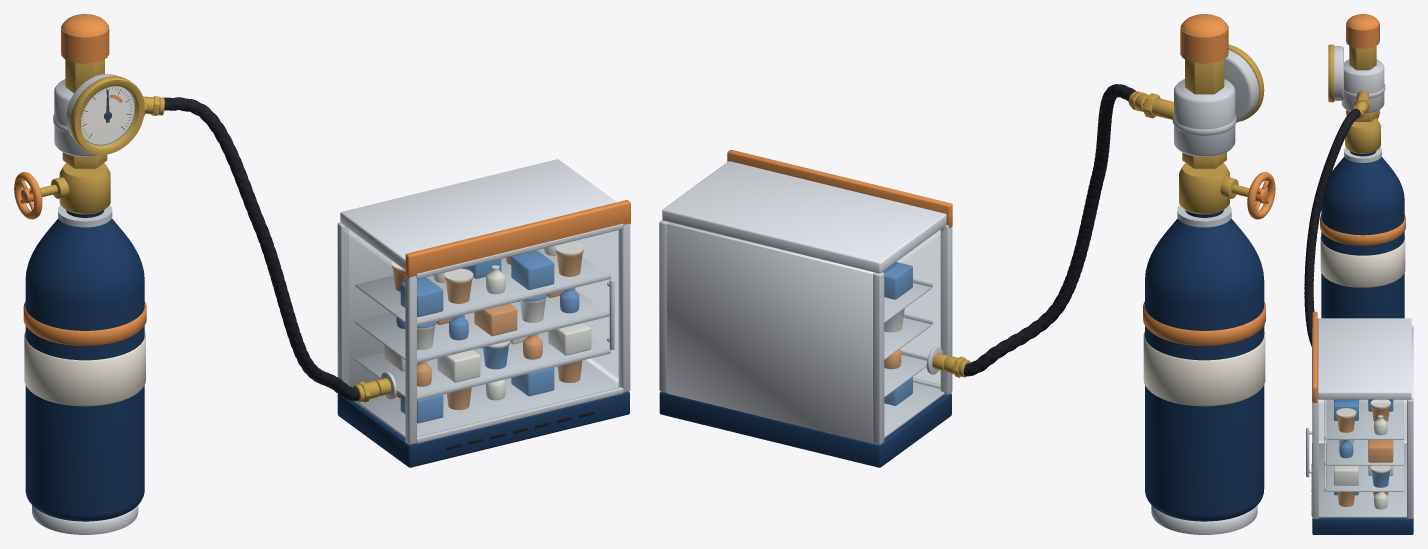
The model's file is objet.glb.
3 renders of one model, left to right at view 1: azimuth 30°, elevation 25°; view 2: azimuth 150°, elevation 25°; view 3: azimuth 270°, elevation 25°, orthographic. The views are drawn at different scales.
Parts seen in each view (by area): view 1: vitre, peinture, inox, laque, orange, laiton, creme, prod_bleu, caoutchouc, prod_creme, prod_orange, verre_cadran (+1 smaller); view 2: laque, peinture, inox, vitre, orange, laiton, creme, caoutchouc, prod_bleu; view 3: inox, peinture, vitre, laque, creme, orange, laiton, caoutchouc, prod_orange, prod_creme, prod_bleu.
Part boxes in pixels (x1,y1,x2,y2): vitre: [342, 230, 621, 437]; peinture: [25, 210, 629, 521]; inox: [32, 74, 630, 534]; laque: [340, 159, 616, 387]; orange: [14, 14, 630, 345]; laiton: [40, 59, 391, 402]; creme: [24, 241, 583, 406]; prod_bleu: [396, 250, 579, 423]; caoutchouc: [164, 97, 594, 449]; prod_creme: [384, 245, 591, 400]; prod_orange: [392, 251, 583, 410]; verre_cadran: [81, 87, 136, 146]; laque: [662, 161, 946, 443]; peinture: [659, 210, 1264, 521]; inox: [659, 50, 1258, 534]; vitre: [884, 230, 947, 435]; orange: [727, 14, 1275, 345]; laiton: [932, 44, 1264, 377]; creme: [1143, 332, 1265, 406]; caoutchouc: [963, 84, 1143, 376]; prod_bleu: [882, 262, 912, 405]; inox: [1306, 46, 1413, 518]; peinture: [1312, 151, 1413, 534]; vitre: [1319, 400, 1406, 515]; laque: [1317, 318, 1413, 399]; creme: [1320, 236, 1405, 472]; orange: [1312, 14, 1405, 402]; laiton: [1328, 44, 1380, 153]; caoutchouc: [1304, 108, 1360, 515]; prod_orange: [1336, 405, 1393, 506]; prod_creme: [1334, 415, 1393, 509]; prod_bleu: [1334, 399, 1393, 495].
Bounding box in the file's own units: 0.7735 × 0.64 × 0.1834.
Materials: 15 (1 with a texture image).
